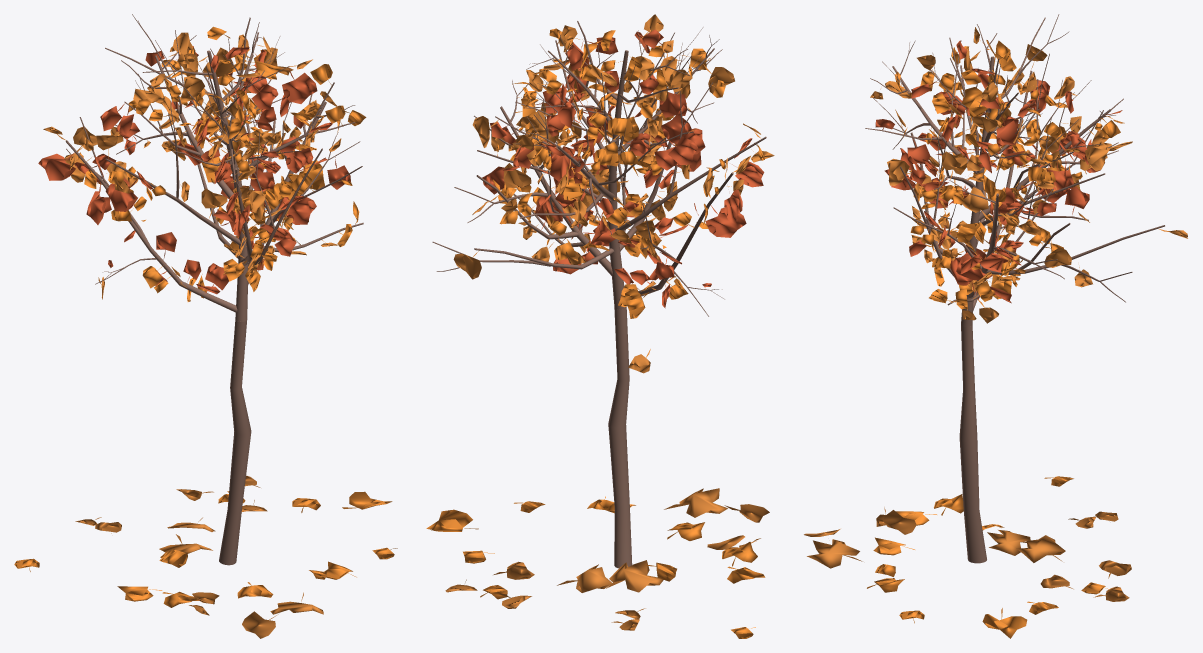
The model's file is caycc2.fbx.
3 views of the same model, side by side, from view 1: azimuth 30°, elevation 25°; view 2: azimuth 150°, elevation 25°; view 3: azimuth 270°, elevation 25° (orthographic). The views are drawn at different scales.
Parts seen in each view (by area): view 1: red, tree; view 2: red, tree; view 3: red, tree.
Part boxes in pixels (bbox=[...]): red: bbox=[14, 26, 397, 638]; tree: bbox=[65, 14, 363, 565]; red: bbox=[426, 14, 774, 638]; tree: bbox=[432, 21, 766, 568]; red: bbox=[804, 27, 1187, 638]; tree: bbox=[865, 14, 1164, 563].
Size of the model in its own units: 66.63 by 98.69 by 66.19.
